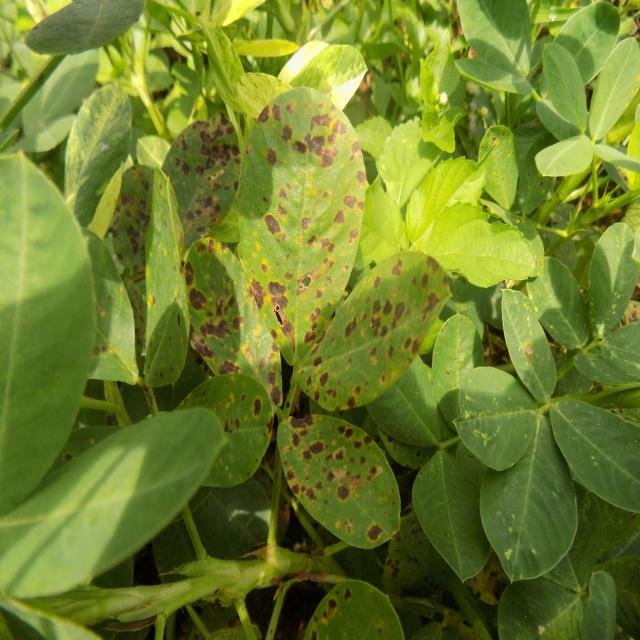Ground nut_healthy: (0, 403, 228, 596), (408, 443, 514, 589)
Ground nut_tikka leaf spot: (235, 88, 361, 369), (291, 250, 454, 413), (275, 413, 403, 544), (152, 372, 272, 484), (154, 113, 234, 266)
